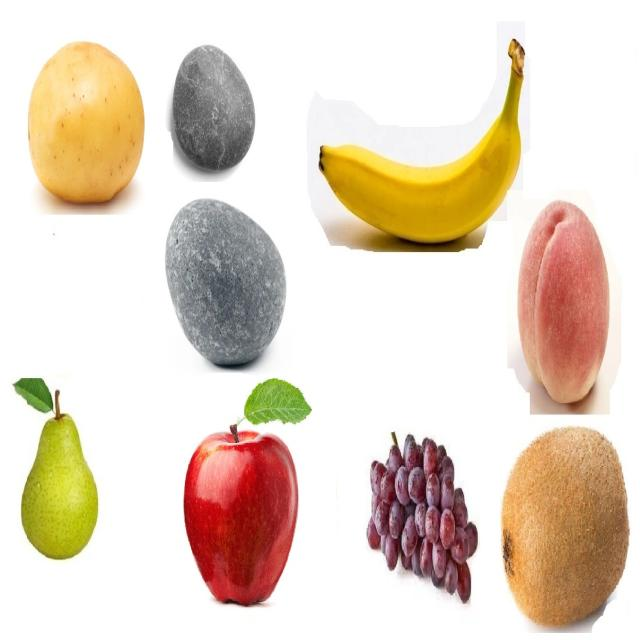potato: (27, 43, 145, 203)
